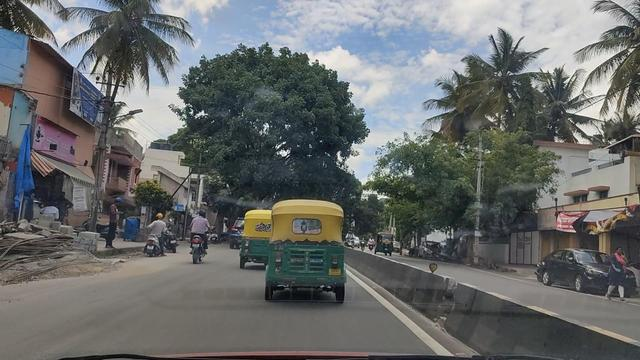LMV: (266, 212, 352, 304), (250, 207, 271, 271), (190, 215, 211, 273)
